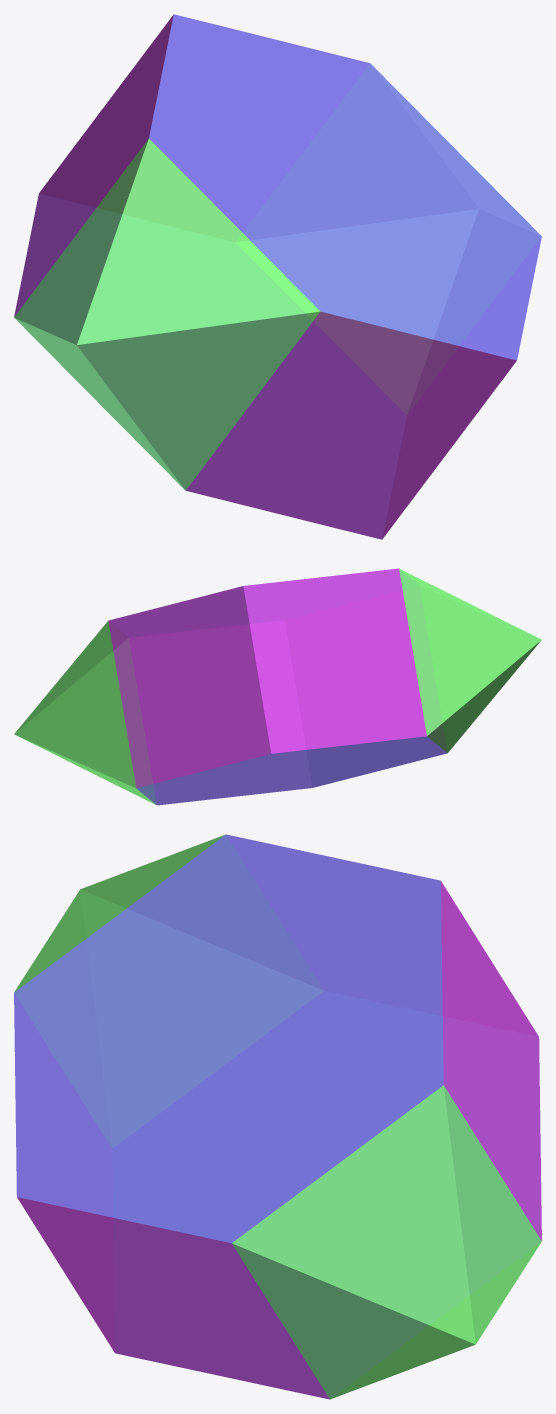
The model's file is j55_parabiaugmented_hexagonal_prism.obj.
The picture shows the model from 3 angles, top to bottom: view 1: azimuth 30°, elevation 25°; view 2: azimuth 150°, elevation 25°; view 3: azimuth 270°, elevation 25°; orthographic projection. The views are drawn at different scales.
Bounding box in the file's own units: 2.26 × 1.55 × 1.67.
